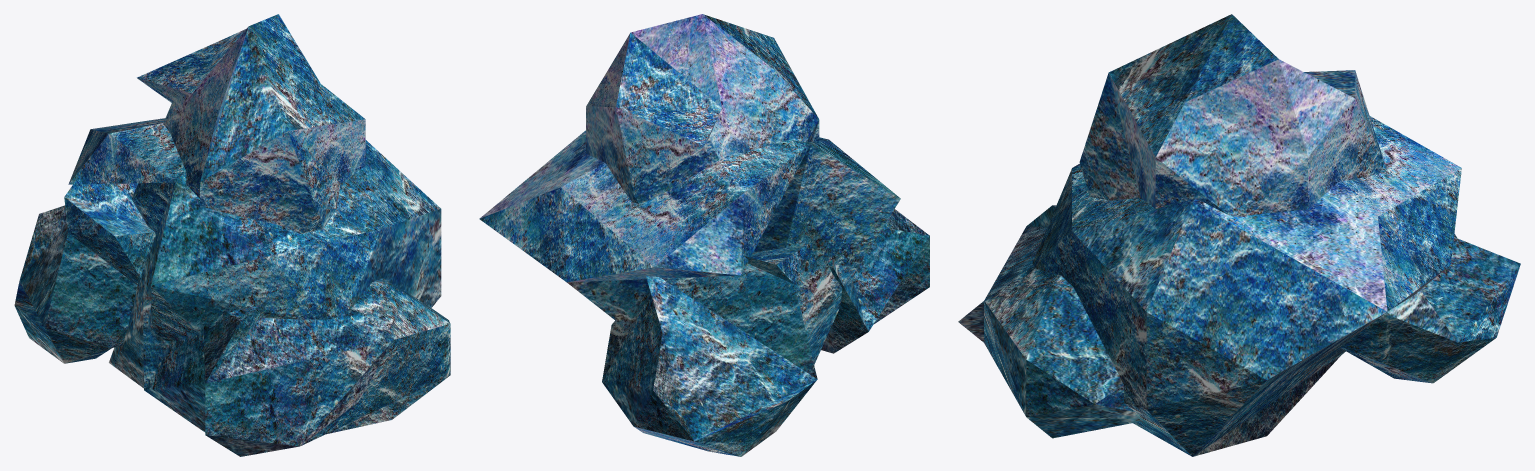
The model's file is Rock4.FBX.
3 views of the same model, side by side, from view 1: azimuth 30°, elevation 25°; view 2: azimuth 150°, elevation 25°; view 3: azimuth 270°, elevation 25° (orthographic). The views are drawn at different scales.
Visible parts, largest first — view 1: Hedra002; view 2: Hedra002; view 3: Hedra002.
Part boxes in pixels (box(x1,y1,x2,y2)): Hedra002: box(14, 14, 450, 456); Hedra002: box(479, 14, 929, 456); Hedra002: box(958, 14, 1520, 456).
Size of the model in its own units: 14.26 by 14.71 by 17.84.
